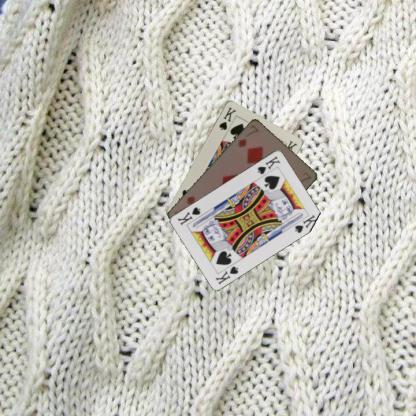7d: (236, 122, 260, 148)
Ks: (212, 263, 240, 285), (216, 104, 238, 131), (255, 153, 281, 175)
